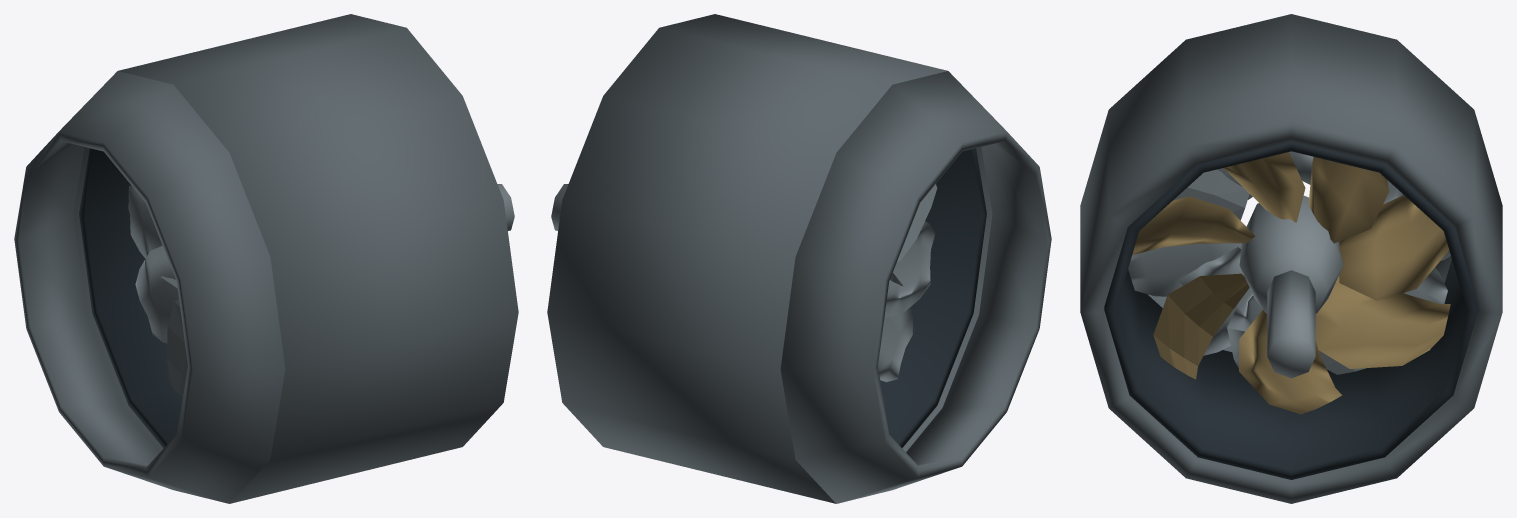
Rendered from US_PJ_Seawolf_LOD3.fbx.
3 views of the same model, side by side, from view 1: azimuth 30°, elevation 25°; view 2: azimuth 150°, elevation 25°; view 3: azimuth 270°, elevation 25° (orthographic). The views are drawn at different scales.
Visible parts, largest first — view 1: US_PJ_Seawolf_LOD3_Housing.001, US_PJ_Seawolf_LOD3_Nozzle.001, US_PJ_Seawolf_LOD3_Lining.001, US_PJ_Seawolf_LOD3_Stator_10.001, US_PJ_Seawolf_LOD3_Stator_09.001, US_PJ_Seawolf_LOD3_Stator_00.001; view 2: US_PJ_Seawolf_LOD3_Housing.001, US_PJ_Seawolf_LOD3_Nozzle.001, US_PJ_Seawolf_LOD3_Lining.001, US_PJ_Seawolf_LOD3_Stator_06.001, US_PJ_Seawolf_LOD3_Stator_07.001, US_PJ_Seawolf_LOD3_Stator_05.001; view 3: US_PJ_Seawolf_LOD3_Housing.001, US_PJ_Seawolf_LOD3_Lining.001, US_PJ_Seawolf_LOD3_Rotor_06.001, US_PJ_Seawolf_LOD3_Rotor_00.001, US_PJ_Seawolf_LOD3_Hub.001, US_PJ_Seawolf_LOD3_Rotor_04.001, US_PJ_Seawolf_LOD3_Rotor_01.001, US_PJ_Seawolf_LOD3_Shaft.001, US_PJ_Seawolf_LOD3_Rotor_05.001, US_PJ_Seawolf_LOD3_Rotor_03.001, US_PJ_Seawolf_LOD3_Rotor_02.001, US_PJ_Seawolf_LOD3_Stator_06.001 (+4 smaller).
Boxes of the visible parts, bbox=[...] form: US_PJ_Seawolf_LOD3_Housing.001: bbox=[73, 14, 518, 503]; US_PJ_Seawolf_LOD3_Nozzle.001: bbox=[14, 71, 285, 503]; US_PJ_Seawolf_LOD3_Lining.001: bbox=[79, 148, 182, 448]; US_PJ_Seawolf_LOD3_Stator_10.001: bbox=[135, 245, 185, 346]; US_PJ_Seawolf_LOD3_Stator_09.001: bbox=[166, 299, 187, 397]; US_PJ_Seawolf_LOD3_Stator_00.001: bbox=[128, 185, 177, 288]; US_PJ_Seawolf_LOD3_Housing.001: bbox=[547, 14, 992, 503]; US_PJ_Seawolf_LOD3_Nozzle.001: bbox=[780, 71, 1051, 503]; US_PJ_Seawolf_LOD3_Lining.001: bbox=[880, 148, 986, 448]; US_PJ_Seawolf_LOD3_Stator_06.001: bbox=[884, 221, 935, 317]; US_PJ_Seawolf_LOD3_Stator_07.001: bbox=[878, 273, 914, 382]; US_PJ_Seawolf_LOD3_Stator_05.001: bbox=[897, 184, 937, 262]; US_PJ_Seawolf_LOD3_Housing.001: bbox=[1080, 14, 1502, 503]; US_PJ_Seawolf_LOD3_Lining.001: bbox=[1104, 141, 1478, 479]; US_PJ_Seawolf_LOD3_Rotor_06.001: bbox=[1315, 275, 1450, 368]; US_PJ_Seawolf_LOD3_Rotor_00.001: bbox=[1339, 195, 1449, 300]; US_PJ_Seawolf_LOD3_Hub.001: bbox=[1239, 195, 1343, 313]; US_PJ_Seawolf_LOD3_Rotor_04.001: bbox=[1153, 273, 1249, 379]; US_PJ_Seawolf_LOD3_Rotor_01.001: bbox=[1308, 157, 1389, 243]; US_PJ_Seawolf_LOD3_Shaft.001: bbox=[1267, 270, 1315, 378]; US_PJ_Seawolf_LOD3_Rotor_05.001: bbox=[1239, 310, 1342, 414]; US_PJ_Seawolf_LOD3_Rotor_03.001: bbox=[1132, 196, 1254, 254]; US_PJ_Seawolf_LOD3_Rotor_02.001: bbox=[1223, 152, 1305, 222]; US_PJ_Seawolf_LOD3_Stator_06.001: bbox=[1128, 243, 1241, 296].
Size of the model in its own units: 627 by 610 by 610.
